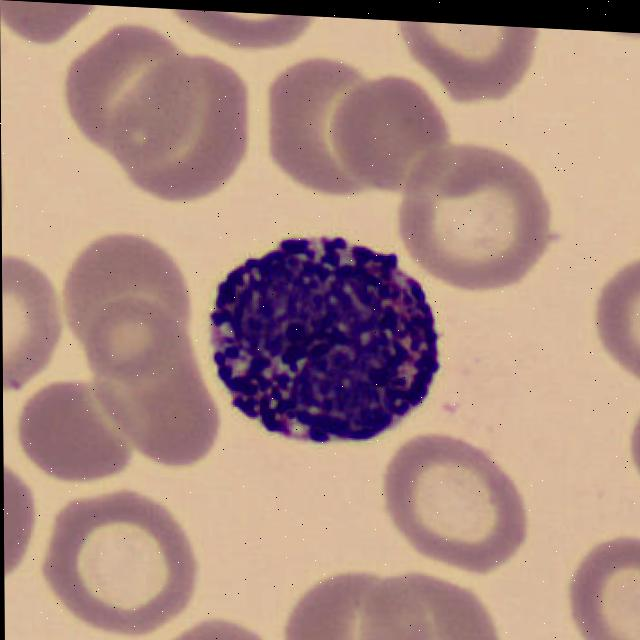basophil: (201, 221, 465, 458)
rbc: (68, 221, 224, 466), (86, 289, 242, 480), (405, 140, 560, 300), (44, 491, 208, 632), (382, 434, 537, 581), (126, 57, 246, 211), (327, 61, 454, 198), (266, 65, 387, 206), (68, 26, 196, 143), (394, 21, 545, 116), (21, 379, 137, 490), (277, 564, 422, 640), (366, 568, 506, 640), (2, 245, 62, 393), (566, 529, 640, 640), (156, 8, 322, 54), (593, 249, 640, 378), (3, 452, 38, 576), (0, 0, 101, 39), (171, 615, 278, 640), (625, 401, 640, 491)
